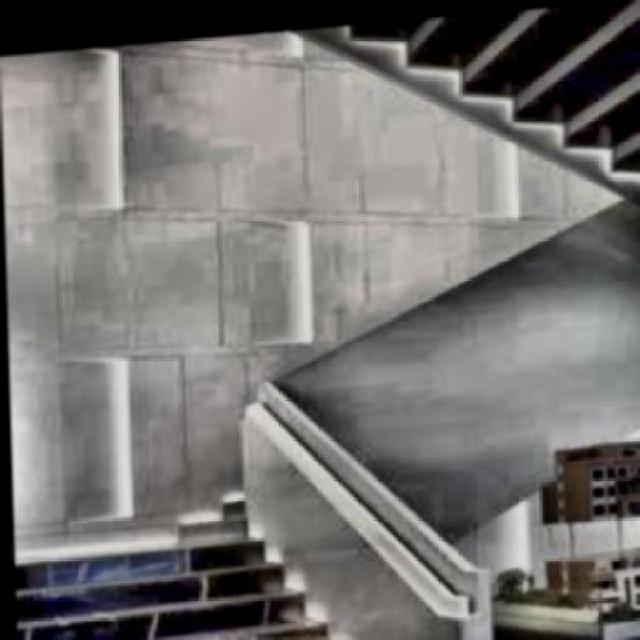stair: (14, 508, 308, 638)
